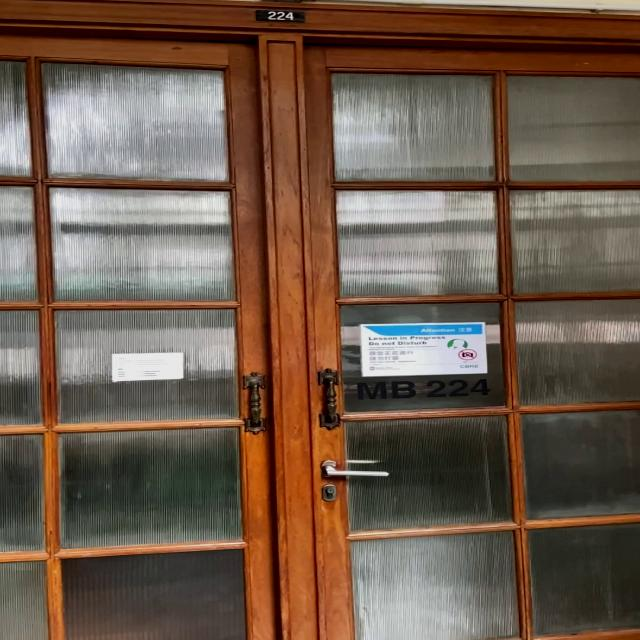room224: (252, 9, 308, 23)
room224Window: (349, 378, 495, 400)
